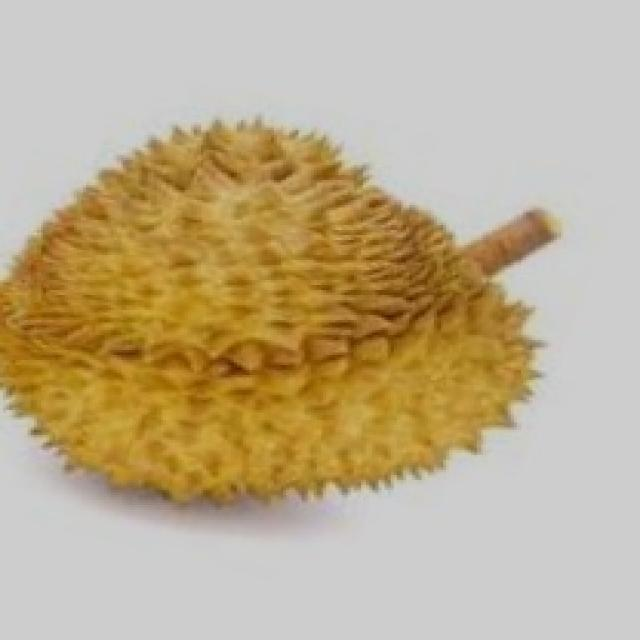fruit: (212, 147, 597, 565), (0, 188, 382, 580)
